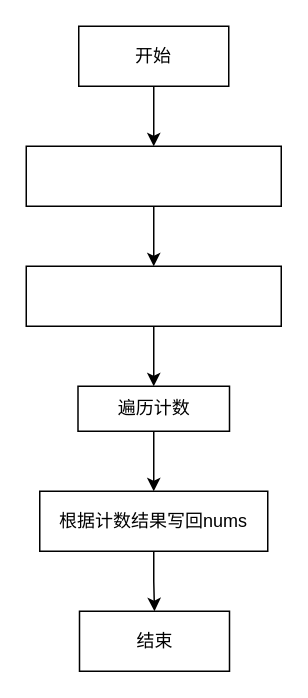
Some shapes in this 308 by 698 pixel diagram are drawn without their labels. Here are the shapes that lost their labels. From the top down, the centre of each, then its label:
(x=153, y=175): 获取max_num\ min_num,
(x=153, y=295): 根据max_num\ min_num,创建count数组
